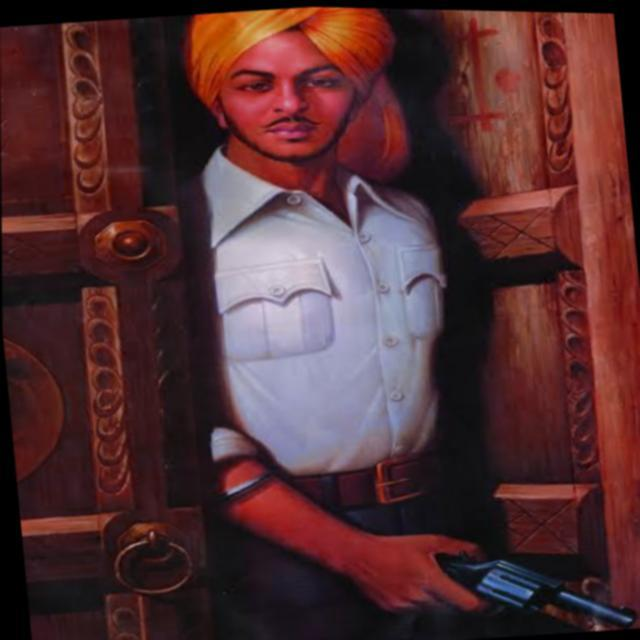weapon: (362, 516, 640, 640)
